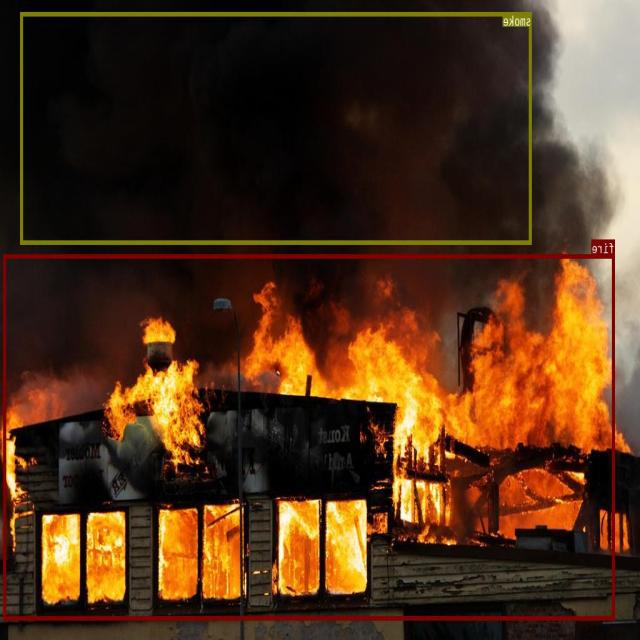fire: (4, 254, 615, 619)
smoke: (21, 12, 532, 244)
